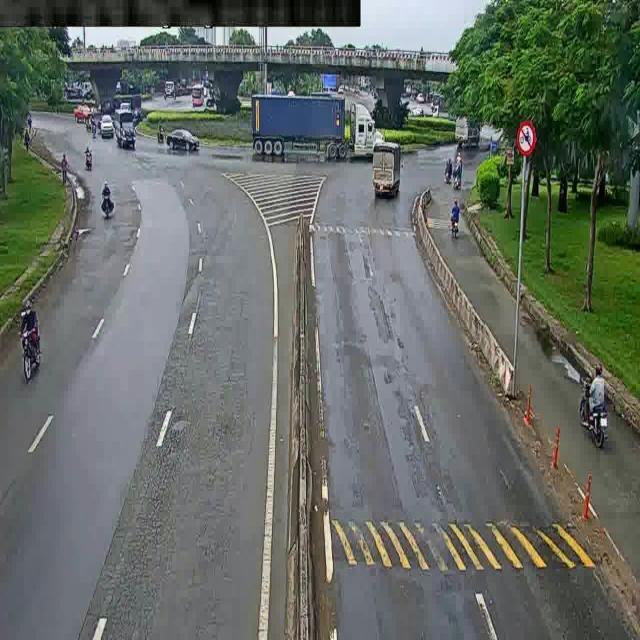car: (167, 130, 205, 162), (100, 110, 118, 140), (116, 130, 142, 148), (73, 105, 96, 122)
motorbike: (10, 298, 52, 381), (575, 364, 600, 448), (97, 182, 122, 221), (451, 149, 470, 197), (450, 191, 470, 235), (77, 144, 96, 170), (153, 119, 167, 144)
truck: (253, 83, 393, 175), (362, 138, 408, 199), (441, 108, 484, 147), (184, 82, 207, 108)
